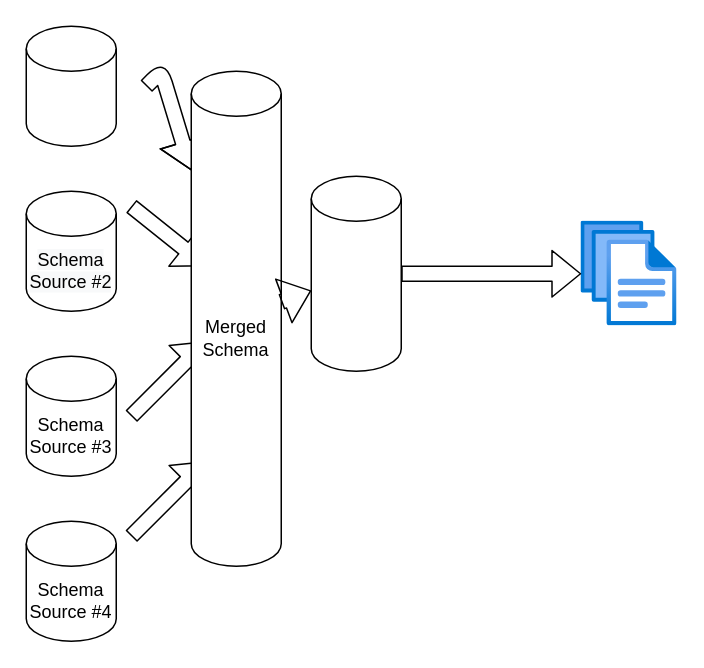
The diagram is 704 pixels wide and 668 high, and some of its shapes have lost their labels. Each missing label, with the box of its shape:
ODS of Delta Changed Files: (310, 175, 401, 371)
Schema Source #1: (25, 25, 116, 146)
